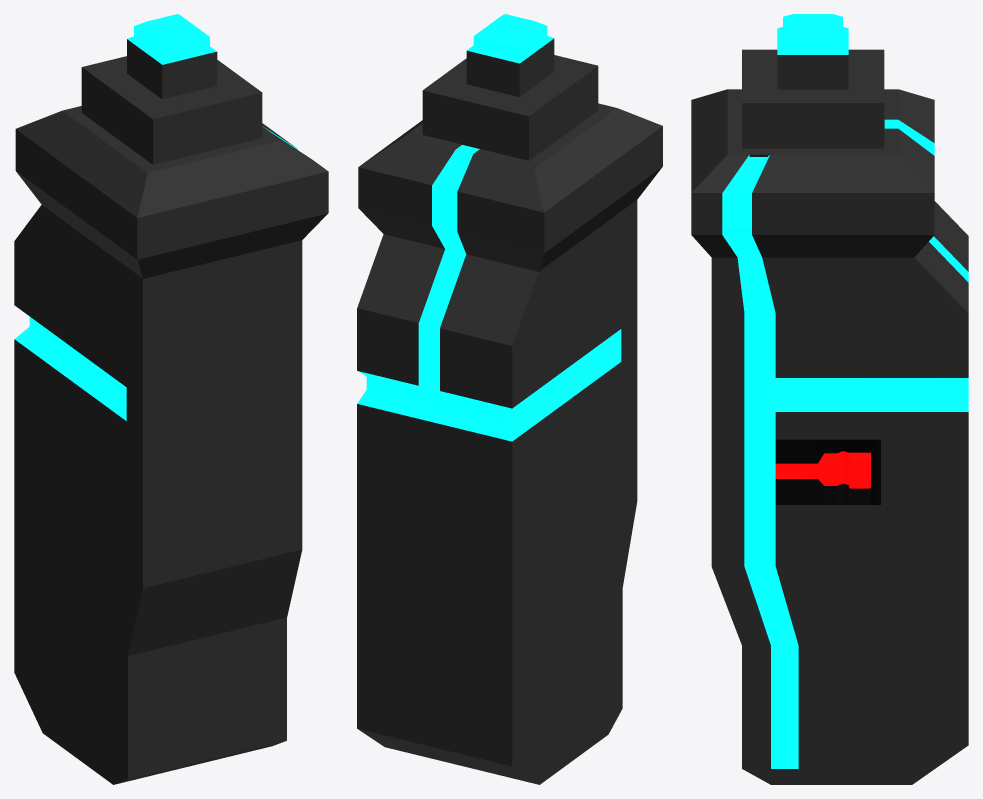
Rendered from GrappleHandle v2.0.fbx.
The picture shows the model from 3 angles, left to right: view 1: azimuth 30°, elevation 25°; view 2: azimuth 150°, elevation 25°; view 3: azimuth 270°, elevation 25°; orthographic projection. The views are drawn at different scales.
Visible parts, largest first — view 1: Cube; view 2: Cube; view 3: Cube.
Part boxes in pixels (left/top/right/bottom): Cube: left=14, top=14, right=328, bottom=784; Cube: left=357, top=14, right=662, bottom=784; Cube: left=691, top=14, right=968, bottom=784.
Bounding box in the file's own units: 11.59 × 42.03 × 14.58.
